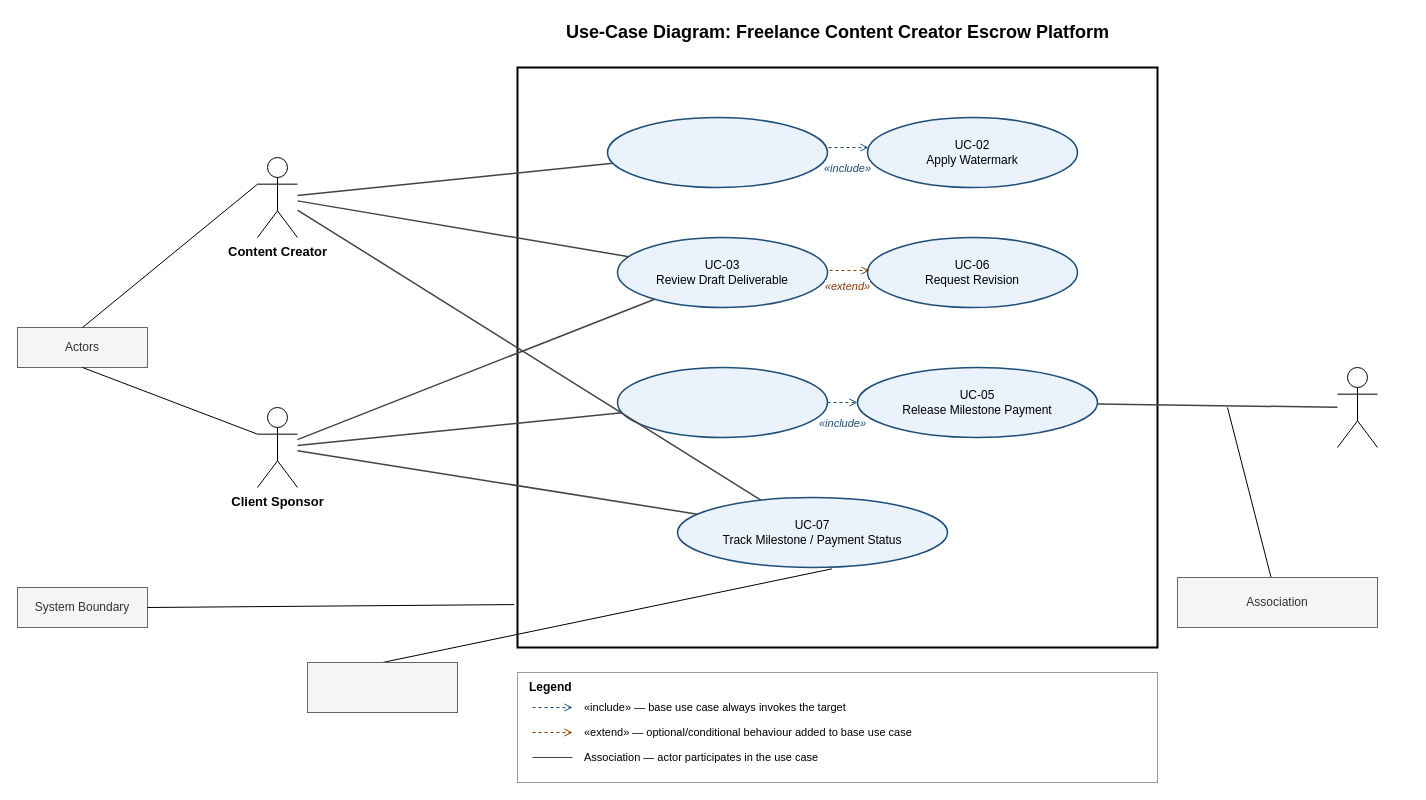
Image size: 1426x800. Some labels were removed from this diagram. The box of each missing label's shape, as (x1, y1, x2, y2) in pixels:
Escrow Platform System: (516, 66, 1158, 648)
Payment Gateway (external system): (1336, 366, 1378, 448)
UC-01 Submit Draft Deliverable: (606, 116, 828, 188)
UC-04 Approve Milestone: (616, 366, 828, 438)
Use Cases: (306, 662, 458, 712)
